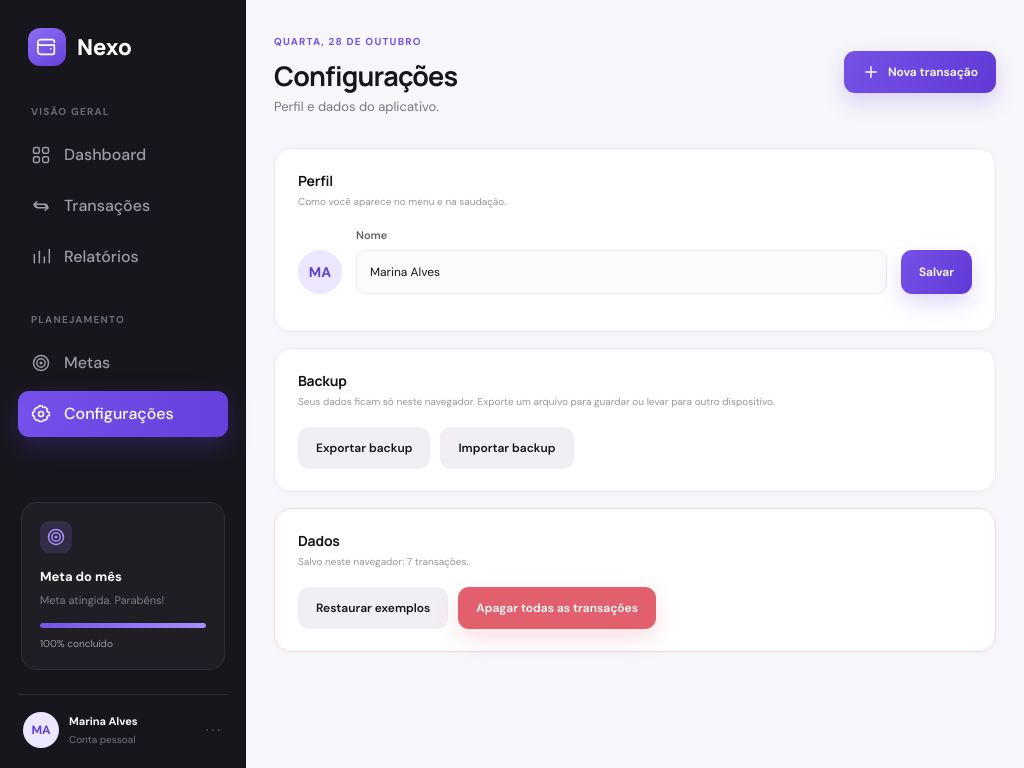
Test: Página Configurações › exporta um backup em JSON
Click the button "Exportar backup".
click(364, 448)  # box [298,427,430,469]
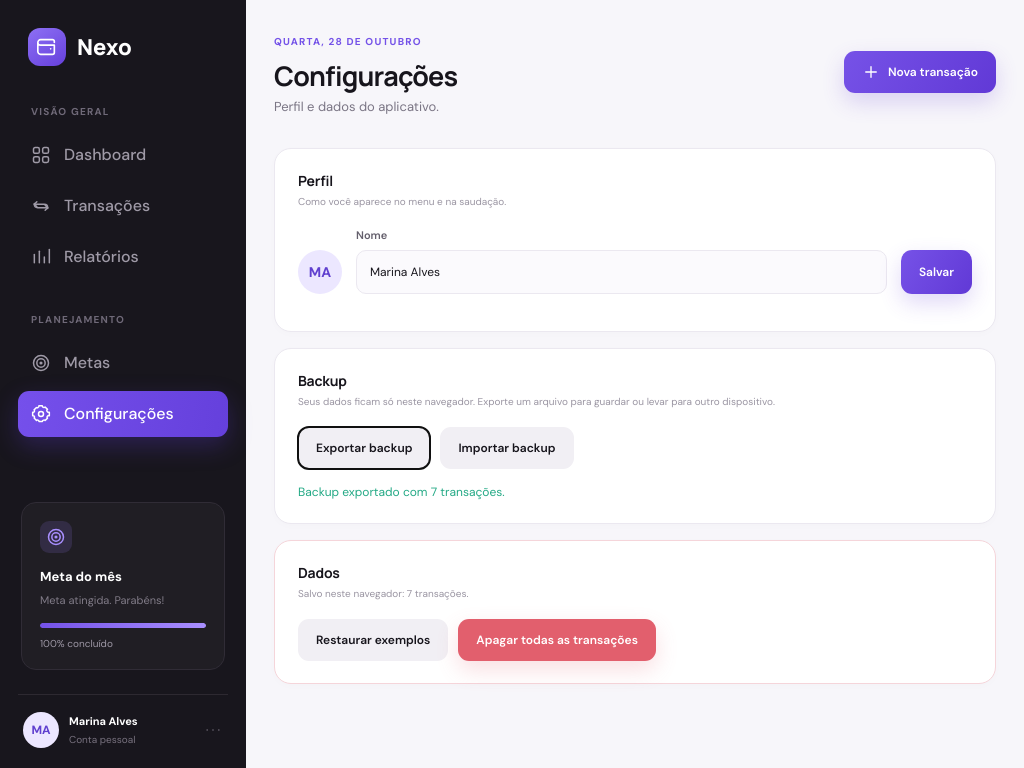
Expected: the message reads "Backup exportado com 7 transações.", [298,484,505,500]
